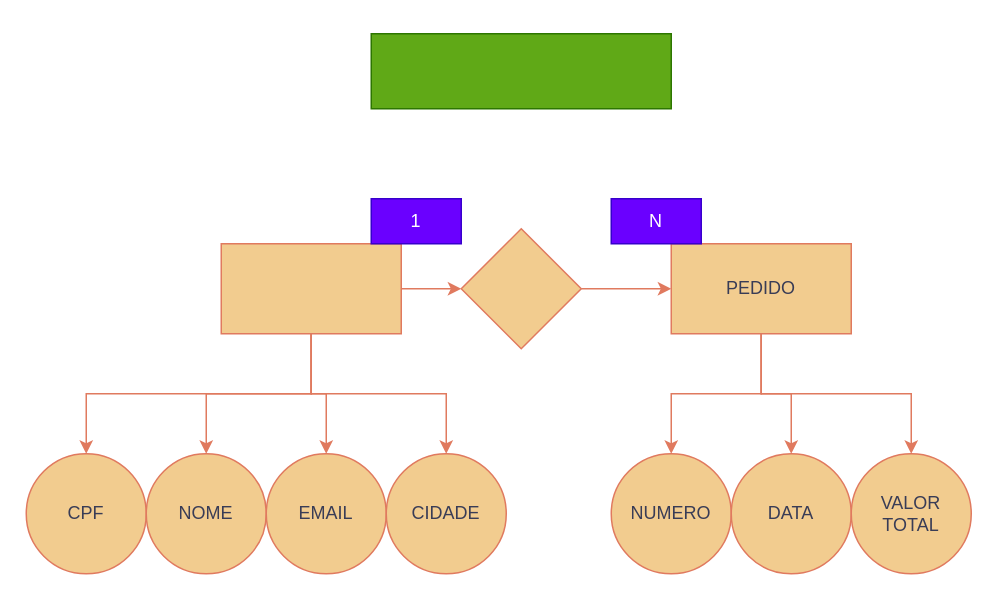
This 998x600 diagram has some shape labels left out. The shapes that lost their labels are listed below. From the top down, each one's centre as x and y in pixels, then its label:
At [520,70]: "EXERCICIO 3".
At [310,288]: "CLIENTE".
At [520,288]: "POSSUI".
